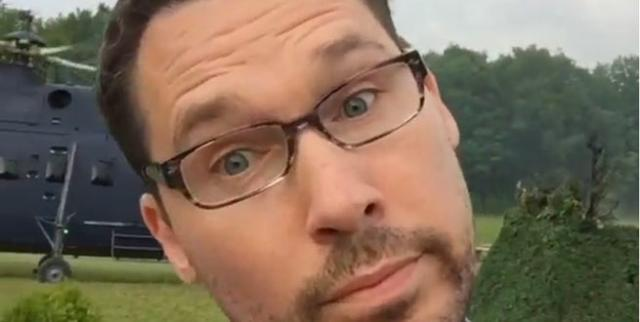forehead: (166, 57, 217, 90), (273, 10, 333, 35), (204, 21, 240, 42), (224, 56, 252, 70)
